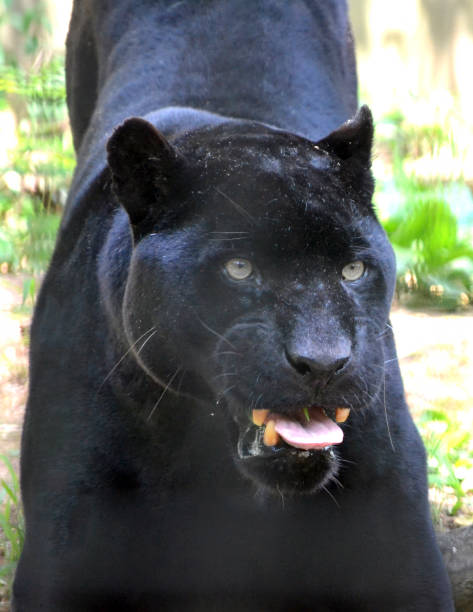panther: (84, 96, 445, 523)
